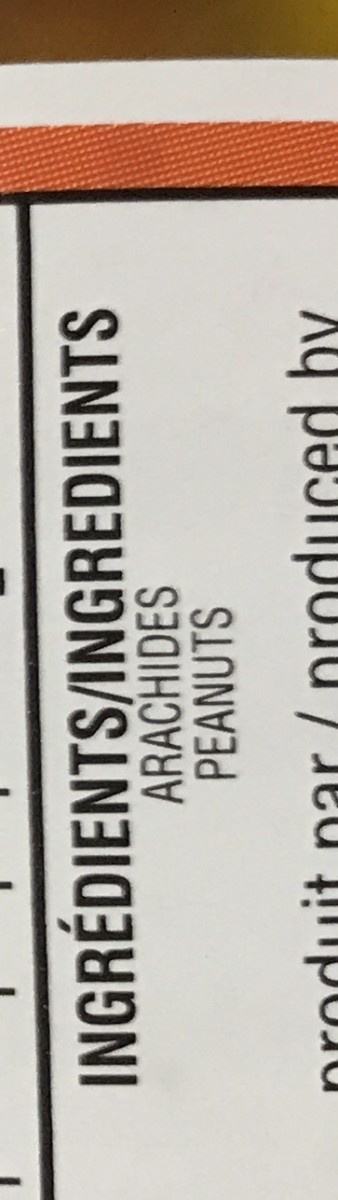ingredients: (63, 243, 274, 1130)
